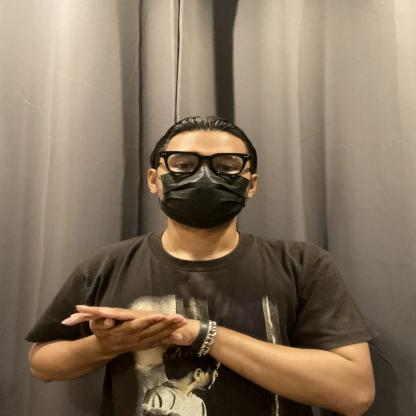Love: (34, 284, 252, 375)
